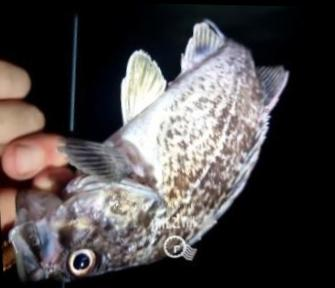fish: (8, 17, 289, 281)
